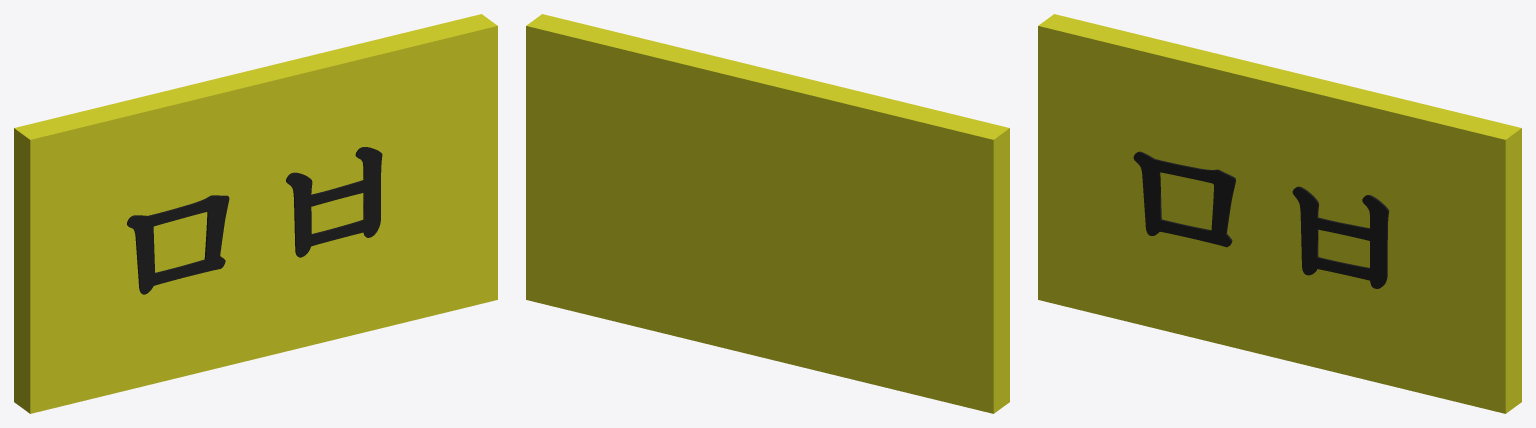
3 views of the same model, side by side, from view 1: azimuth 30°, elevation 25°; view 2: azimuth 150°, elevation 25°; view 3: azimuth 330°, elevation 25° (orthographic).
Visible parts, largest first — view 1: Cube.012; view 2: Cube.012; view 3: Cube.012.
Boxes of the visible parts, x1=… form: Cube.012: x1=14, y1=14, x2=497, y2=413; Cube.012: x1=526, y1=14, x2=1009, y2=413; Cube.012: x1=1038, y1=14, x2=1521, y2=413.
Bounding box in the file's own units: 10 × 5.6 × 0.64.
